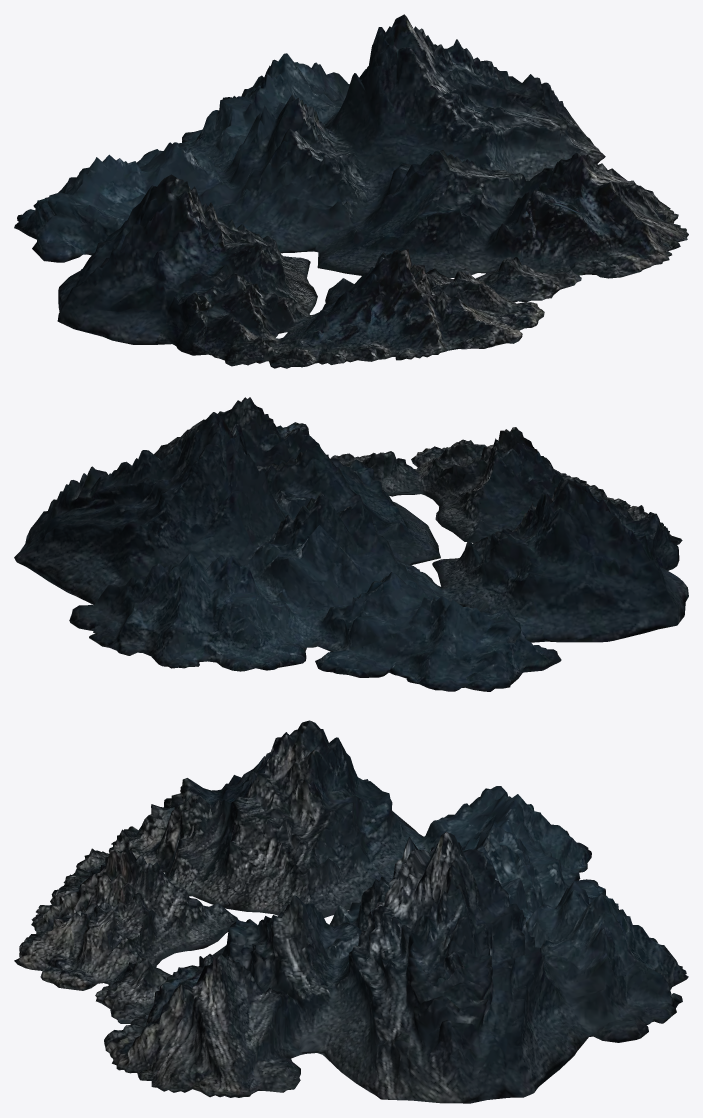
The model's file is mountains.mobile.glb.
The picture shows the model from 3 angles, top to bottom: view 1: azimuth 30°, elevation 25°; view 2: azimuth 150°, elevation 25°; view 3: azimuth 270°, elevation 25°; orthographic projection. The views are drawn at different scales.
Parts seen in each view (by area): view 1: mountains; view 2: mountains; view 3: mountains.
Part boxes in pixels (left/top/right/bottom): mountains: left=14, top=14, right=688, bottom=368; mountains: left=14, top=397, right=688, bottom=691; mountains: left=14, top=720, right=688, bottom=1103.
Size of the model in its own units: 0.9784 by 0.2608 by 0.8942.
1 material, 1 textured.
